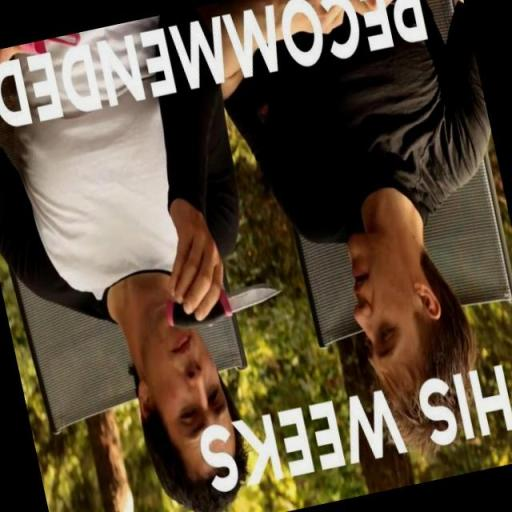knife: (162, 272, 284, 334)
